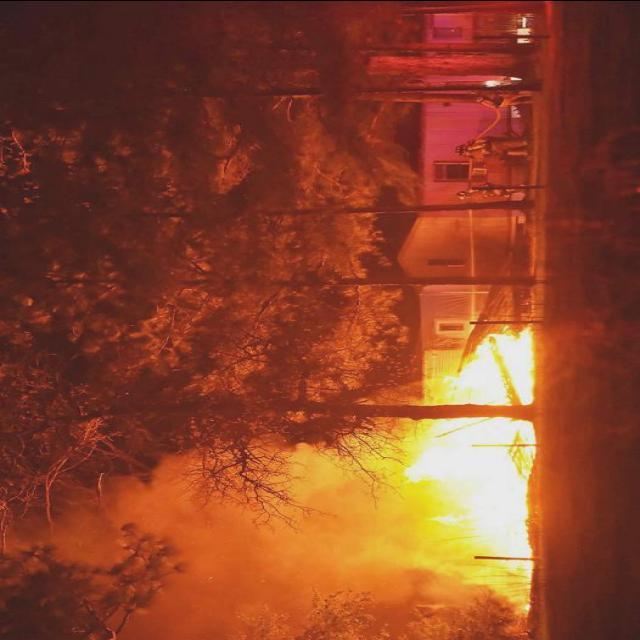Fire: (426, 326, 540, 606)
